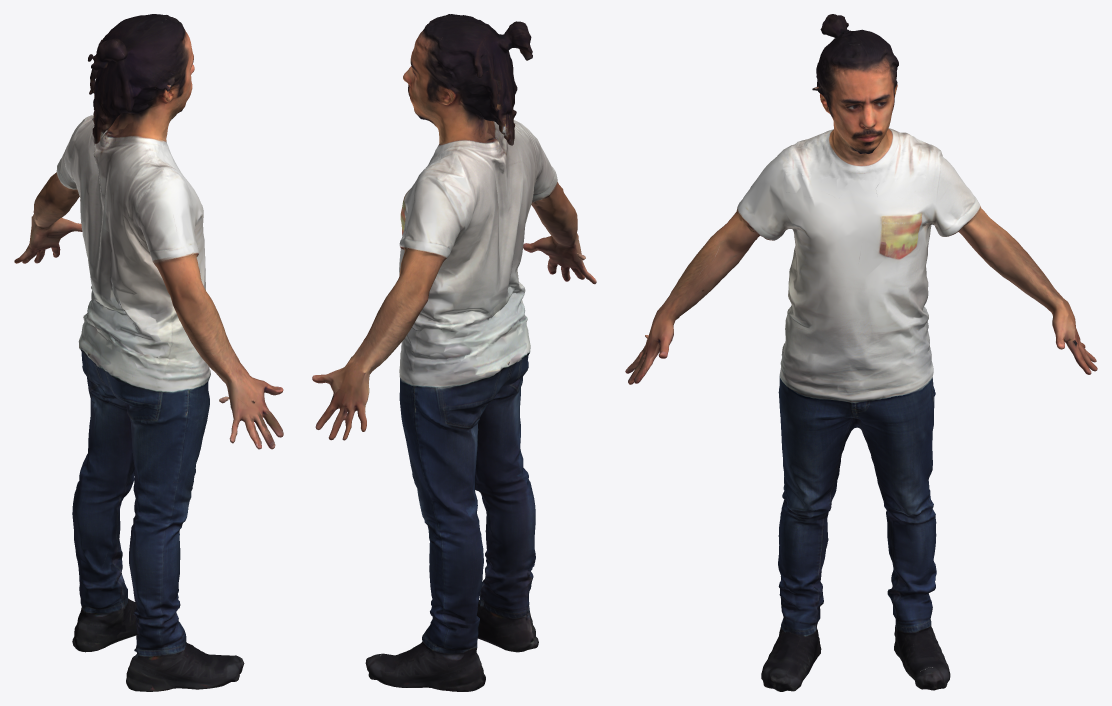
3 renders of one model, left to right at view 1: azimuth 30°, elevation 25°; view 2: azimuth 150°, elevation 25°; view 3: azimuth 270°, elevation 25°, orthographic.
Visible parts, largest first — view 1: 7a92173_00073; view 2: 7a92173_00073; view 3: 7a92173_00073.
Part boxes in pixels (x1,y1,x2,y2): 7a92173_00073: [14, 14, 283, 691]; 7a92173_00073: [312, 14, 596, 691]; 7a92173_00073: [625, 14, 1097, 691].
Size of the model in its own units: 318 by 1571 by 1068.
Materials: 1 (1 with a texture image).
